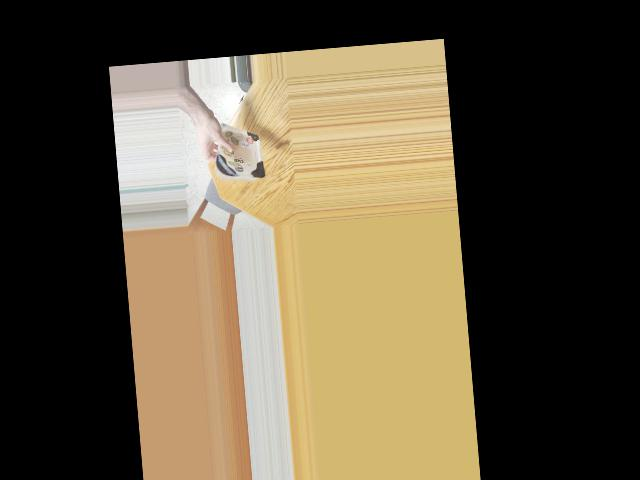cheese: (211, 131, 263, 187)
